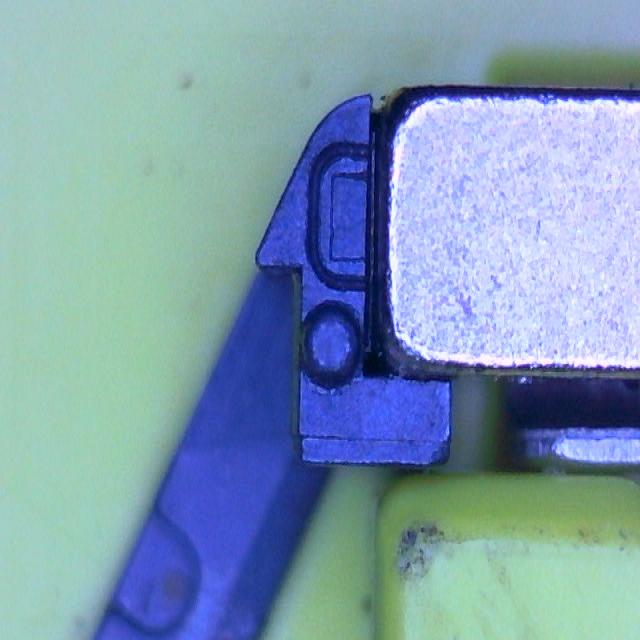lacking: (306, 142, 374, 294)
